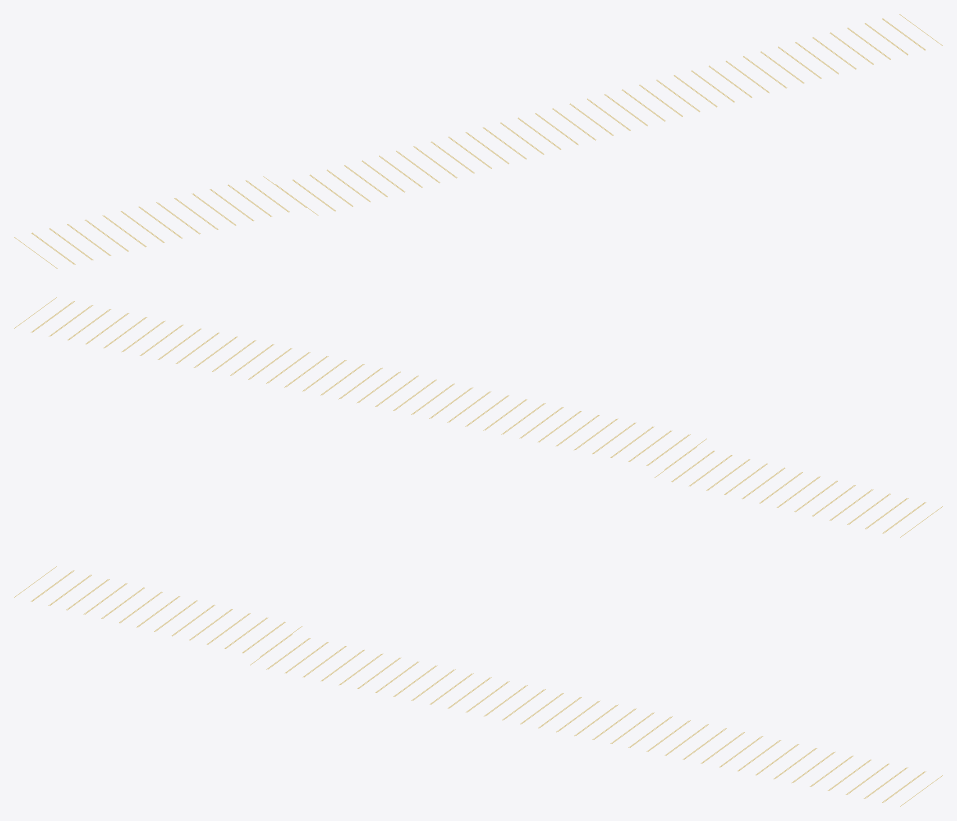
Rendered from SM_MPR3_Site_TrailerStandLines.fbx.
3 views of the same model, one above another, from view 1: azimuth 30°, elevation 25°; view 2: azimuth 150°, elevation 25°; view 3: azimuth 330°, elevation 25° (orthographic).
Parts seen in each view (by area): view 1: SM_MPR3_Site_TrailerStandLines; view 2: SM_MPR3_Site_TrailerStandLines; view 3: SM_MPR3_Site_TrailerStandLines.
Boxes of the visible parts, x1,y1,x2,y2 form: SM_MPR3_Site_TrailerStandLines: (14,14,942,268); SM_MPR3_Site_TrailerStandLines: (14,297,942,537); SM_MPR3_Site_TrailerStandLines: (14,566,942,806).
Size of the model in its own units: 18990 by 2265 by 0.
